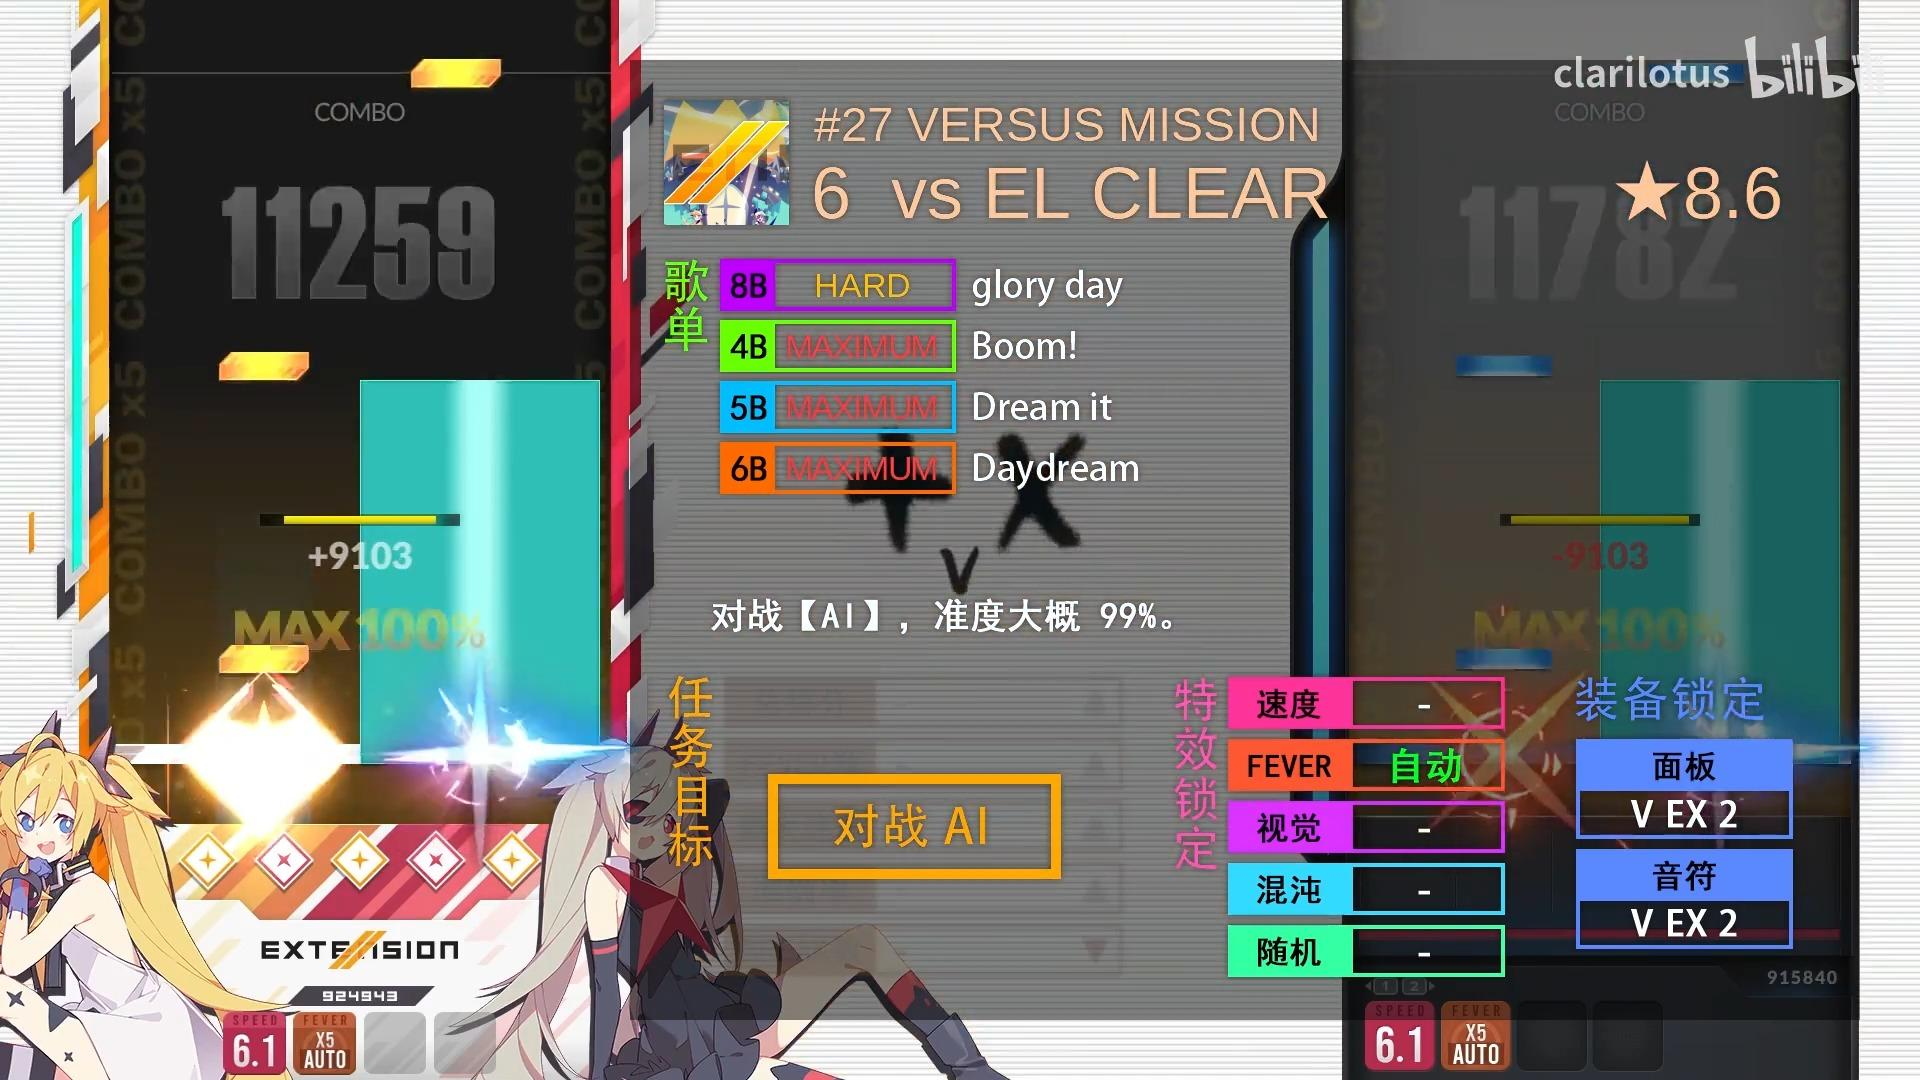note: (218, 645, 310, 674), (410, 59, 501, 88), (219, 352, 310, 380)
side-end: (359, 378, 601, 401)
